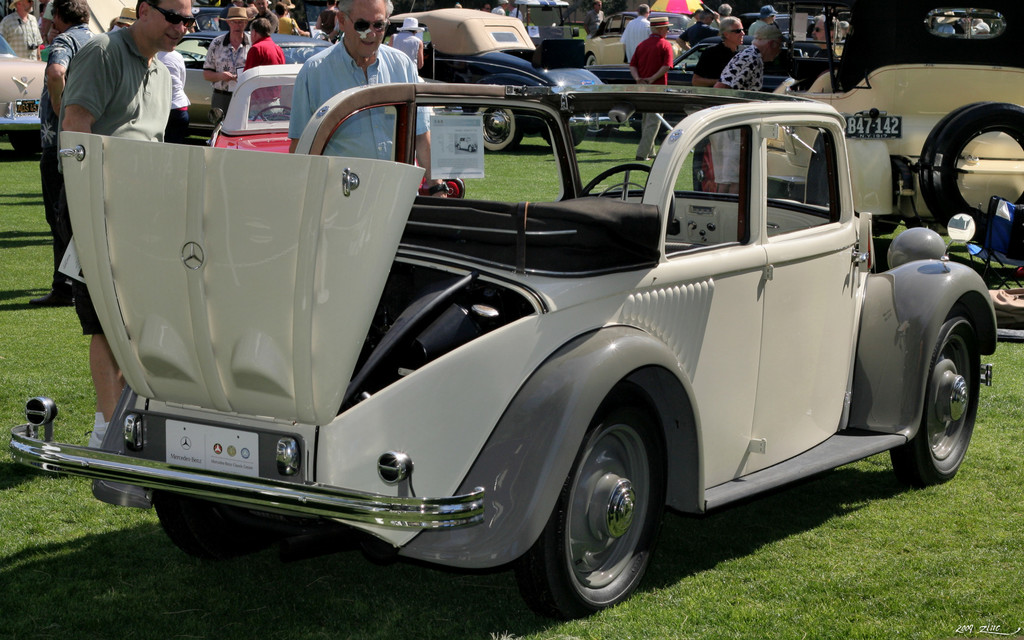Car: (0, 0, 1023, 238)
